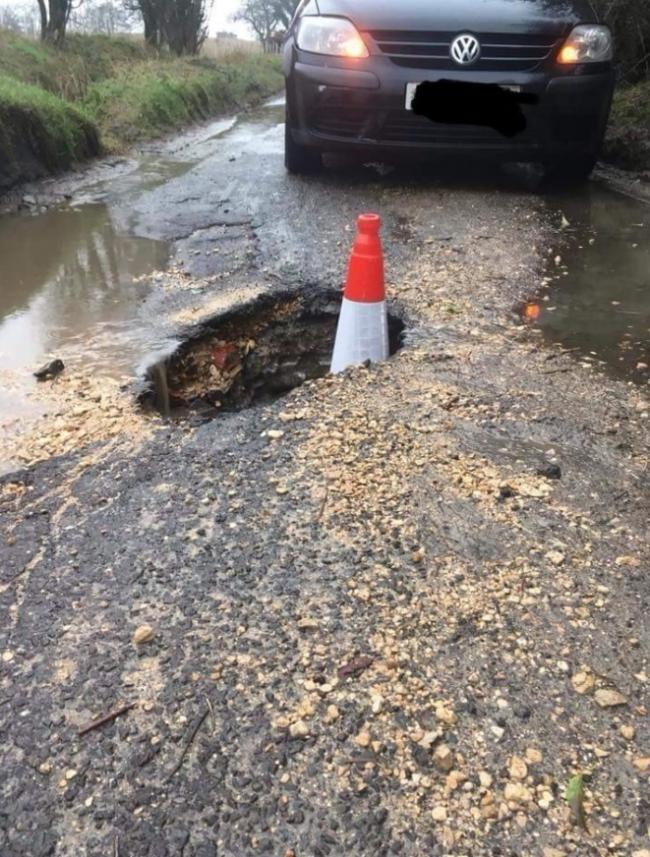Pothole: (121, 251, 420, 423)
